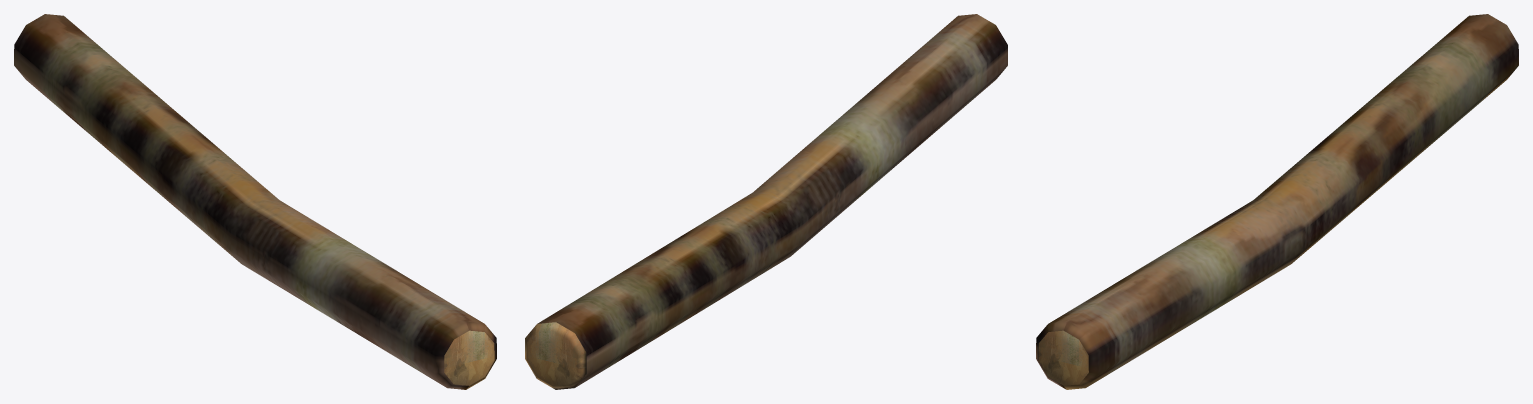
File: Tronk_Variant.fbx
3 views of the same model, side by side, from view 1: azimuth 30°, elevation 25°; view 2: azimuth 150°, elevation 25°; view 3: azimuth 330°, elevation 25° (orthographic).
Parts seen in each view (by area): view 1: Tronk_Variant; view 2: Tronk_Variant; view 3: Tronk_Variant.
Part boxes in pixels (<box>): Tronk_Variant: <box>14,14,496,389</box>; Tronk_Variant: <box>525,14,1007,389</box>; Tronk_Variant: <box>1036,14,1518,389</box>.
Size of the model in its own units: 9.96 by 14.57 by 120.
